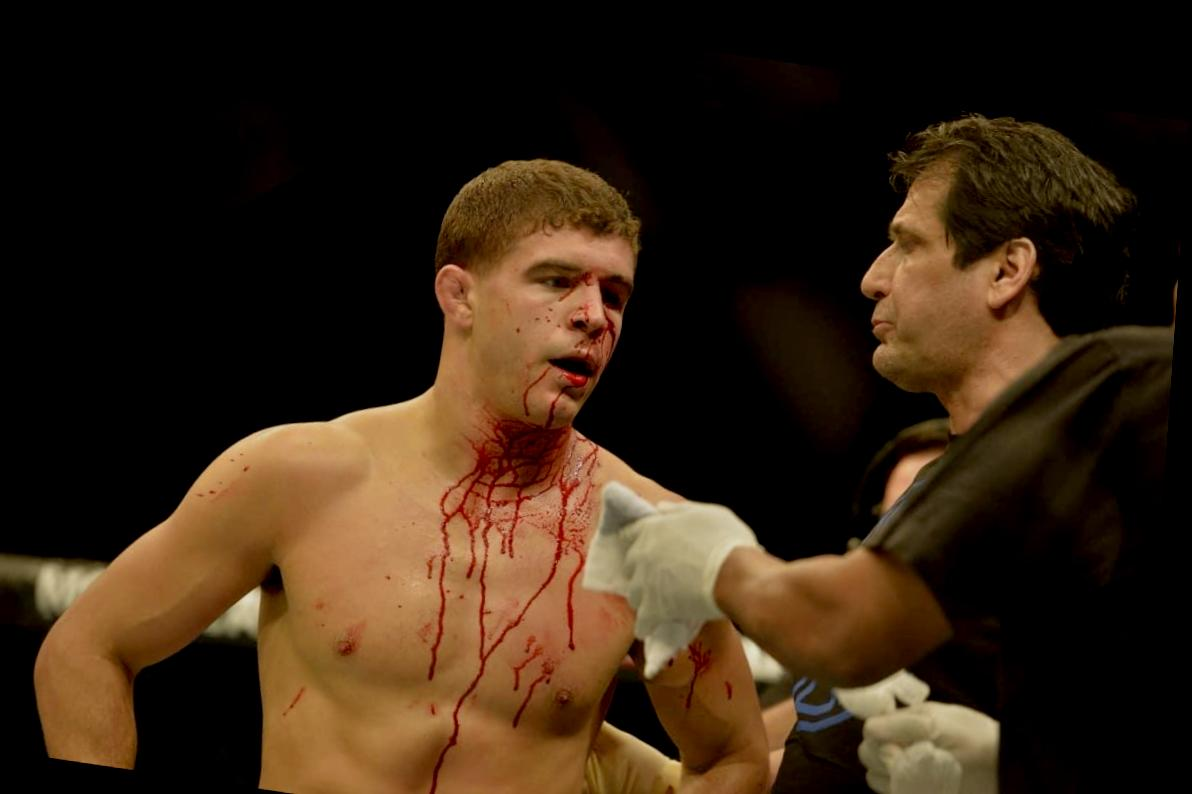Fire: (433, 394, 605, 794), (518, 236, 637, 420), (203, 437, 258, 499), (694, 629, 722, 701), (290, 683, 314, 713), (732, 668, 745, 692), (435, 696, 448, 711), (400, 599, 411, 613), (390, 569, 398, 577)
